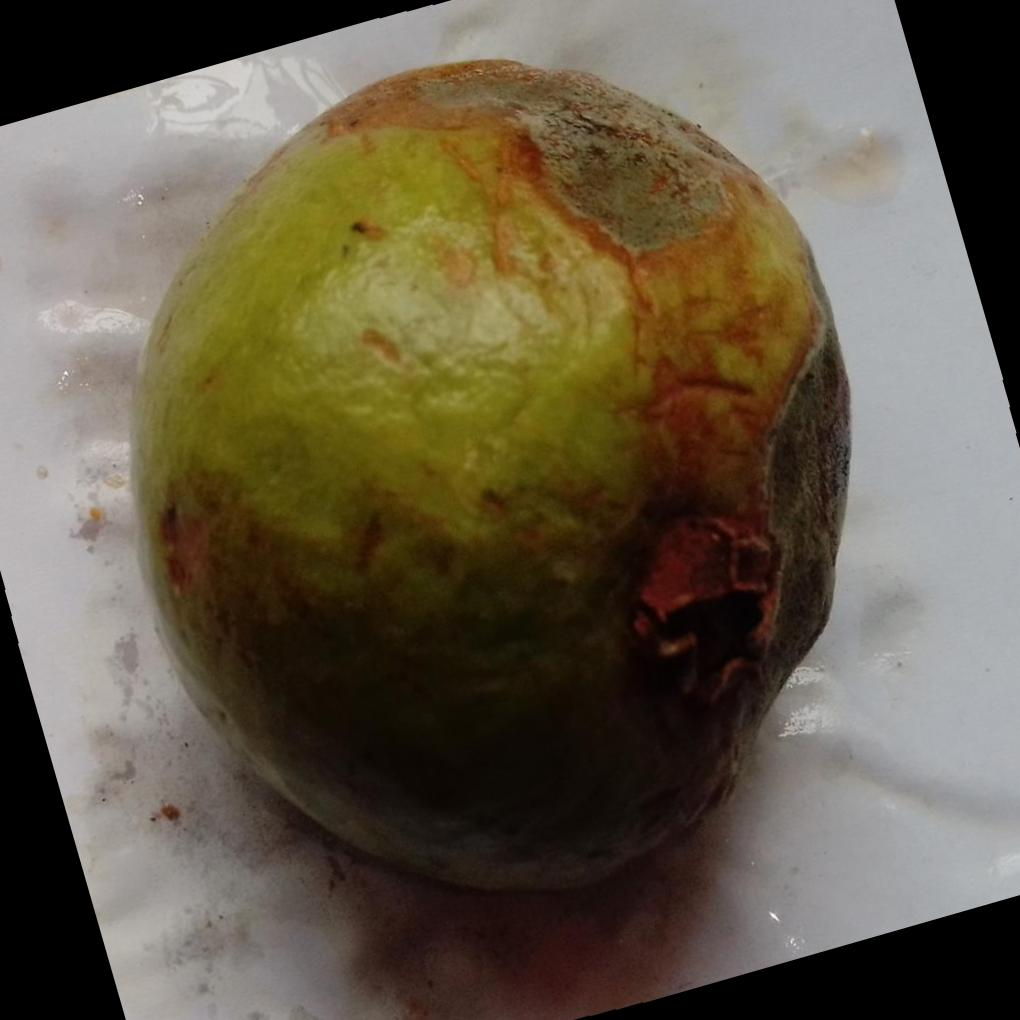FreshOrange: (128, 59, 853, 900)
